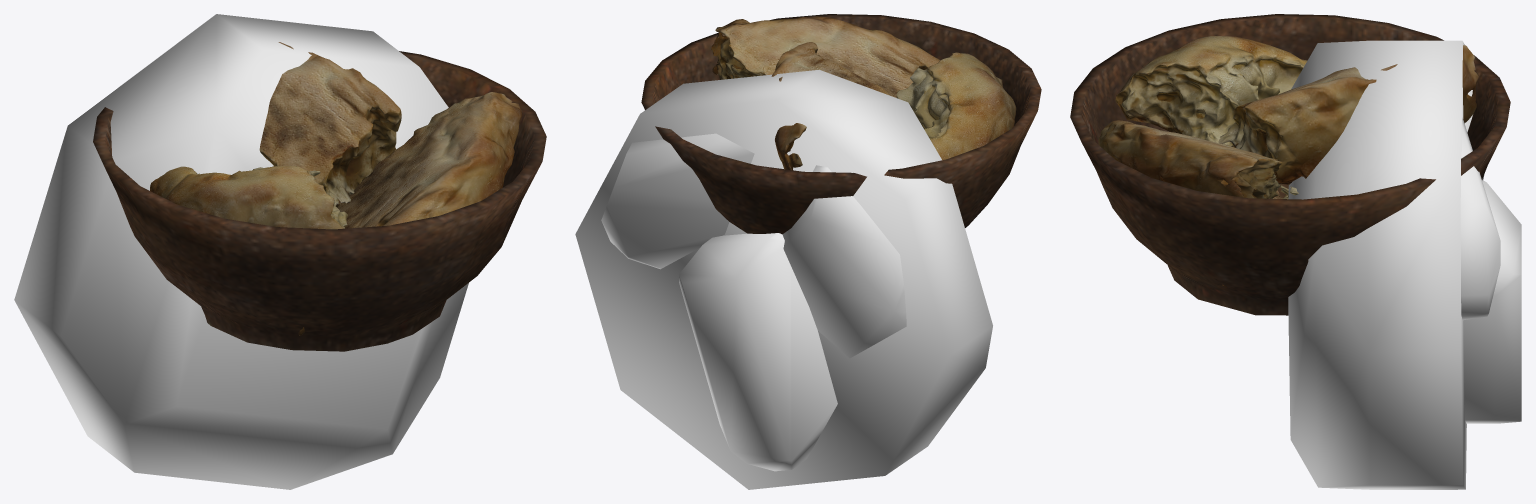
The model's file is SM_BreadBowl_Food.fbx.
The picture shows the model from 3 angles, left to right: view 1: azimuth 30°, elevation 25°; view 2: azimuth 150°, elevation 25°; view 3: azimuth 270°, elevation 25°; orthographic projection. The views are drawn at different scales.
Visible parts, largest first — view 1: SM_BreadBowl_Food_ConvexHulls, SM_BreadBowl_Food; view 2: SM_BreadBowl_Food_ConvexHulls, SM_BreadBowl_Food; view 3: SM_BreadBowl_Food_ConvexHulls, SM_BreadBowl_Food.
Boxes of the visible parts, x1,y1,x2,y2 form: SM_BreadBowl_Food_ConvexHulls: (14, 14, 468, 489); SM_BreadBowl_Food: (93, 42, 546, 351); SM_BreadBowl_Food_ConvexHulls: (575, 69, 992, 489); SM_BreadBowl_Food: (641, 14, 1041, 234); SM_BreadBowl_Food_ConvexHulls: (1288, 40, 1521, 489); SM_BreadBowl_Food: (1070, 14, 1510, 315).
Size of the model in its own units: 0.293 by 0.2929 by 0.2749.
